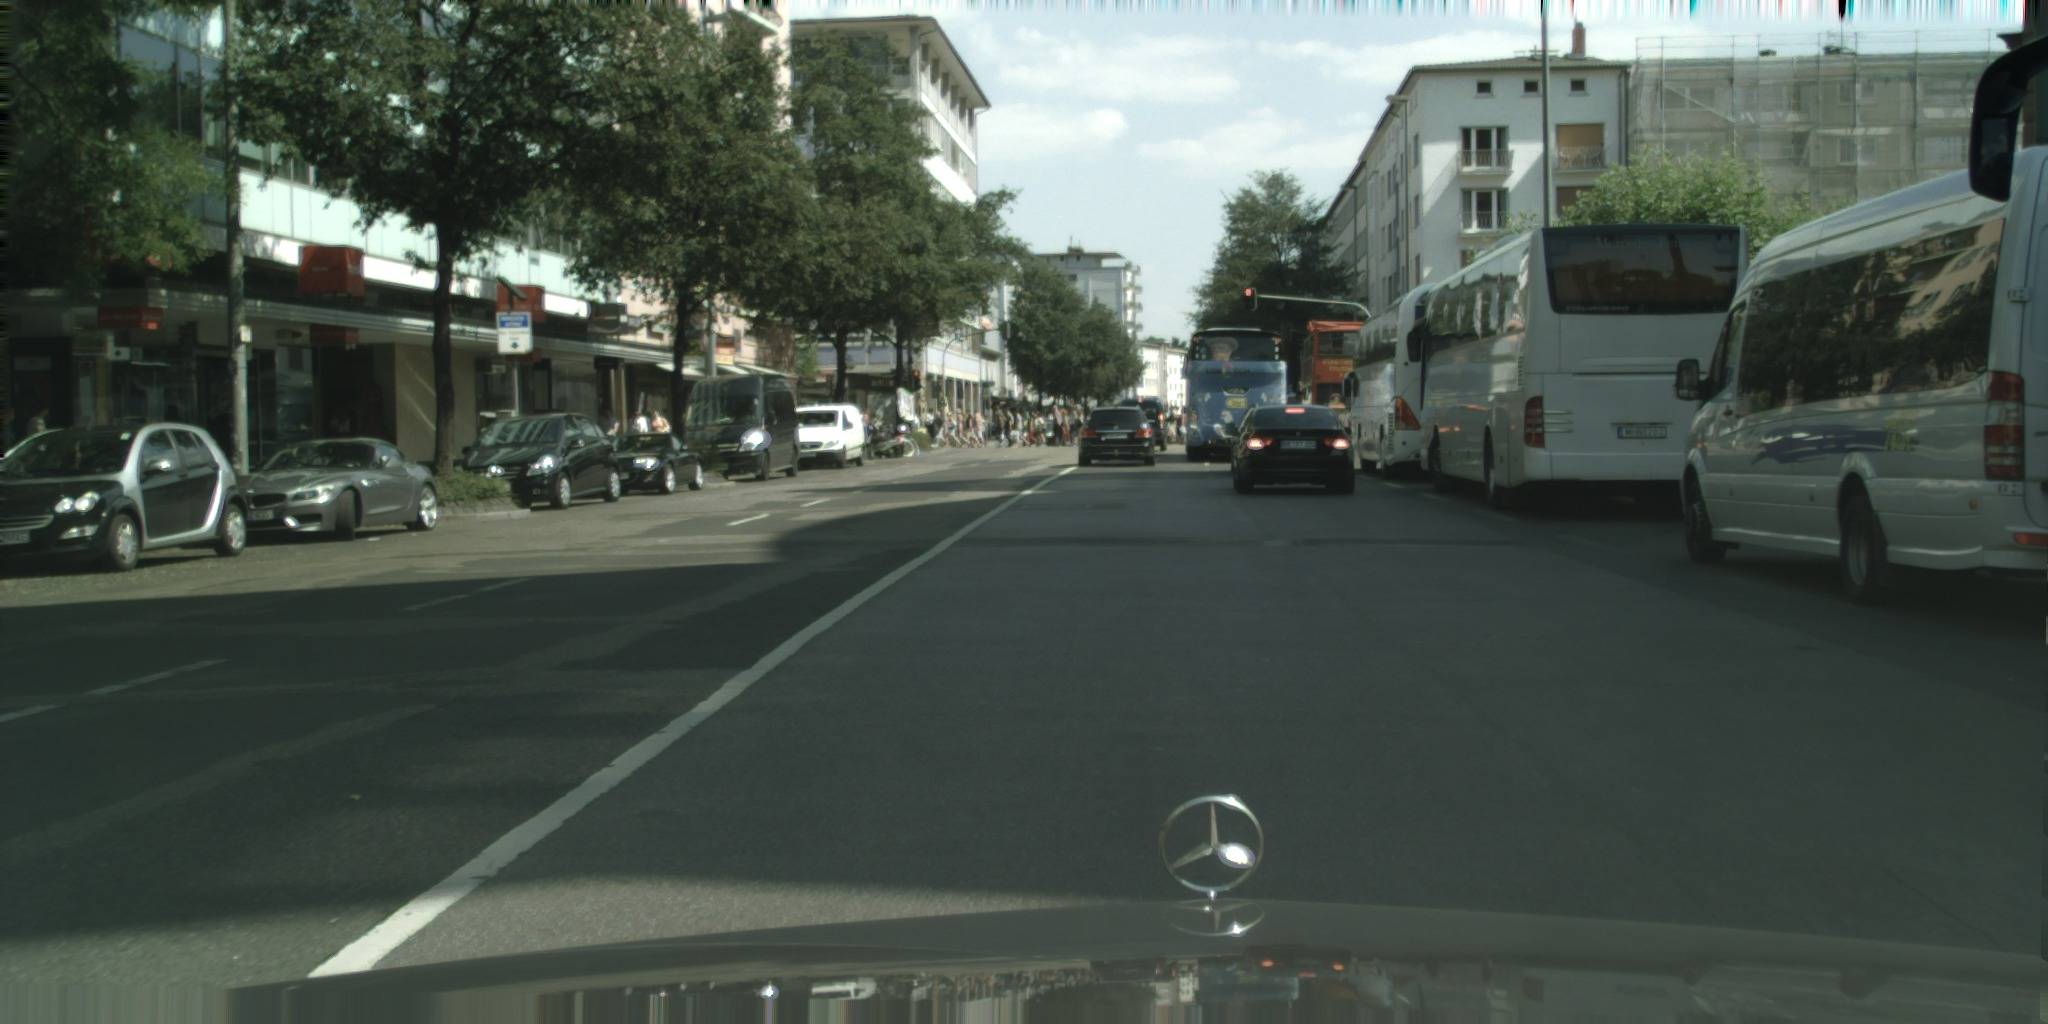bus: (1406, 222, 1751, 520), (1342, 282, 1477, 481), (1180, 327, 1288, 462), (1968, 35, 2047, 204), (1299, 319, 1391, 435)
car: (1674, 145, 2047, 607), (0, 420, 247, 573), (221, 436, 440, 541), (461, 413, 622, 512), (680, 373, 802, 481), (1224, 403, 1354, 496), (584, 431, 705, 497), (782, 403, 868, 471), (1077, 405, 1155, 467), (1118, 399, 1174, 452), (1003, 418, 1034, 444), (1029, 422, 1059, 446)
person: (1, 409, 22, 468), (594, 406, 622, 449), (25, 405, 50, 450), (951, 407, 972, 448), (646, 410, 672, 444), (962, 409, 983, 448), (1158, 405, 1179, 442), (1065, 404, 1083, 446), (1177, 405, 1195, 446), (940, 411, 960, 448), (995, 404, 1009, 449), (629, 410, 650, 441), (1013, 410, 1031, 448), (970, 409, 986, 447), (1025, 410, 1040, 448), (1032, 412, 1048, 446), (1057, 409, 1071, 446), (1051, 404, 1063, 447), (922, 407, 936, 441), (932, 411, 947, 444), (1004, 406, 1014, 449)
